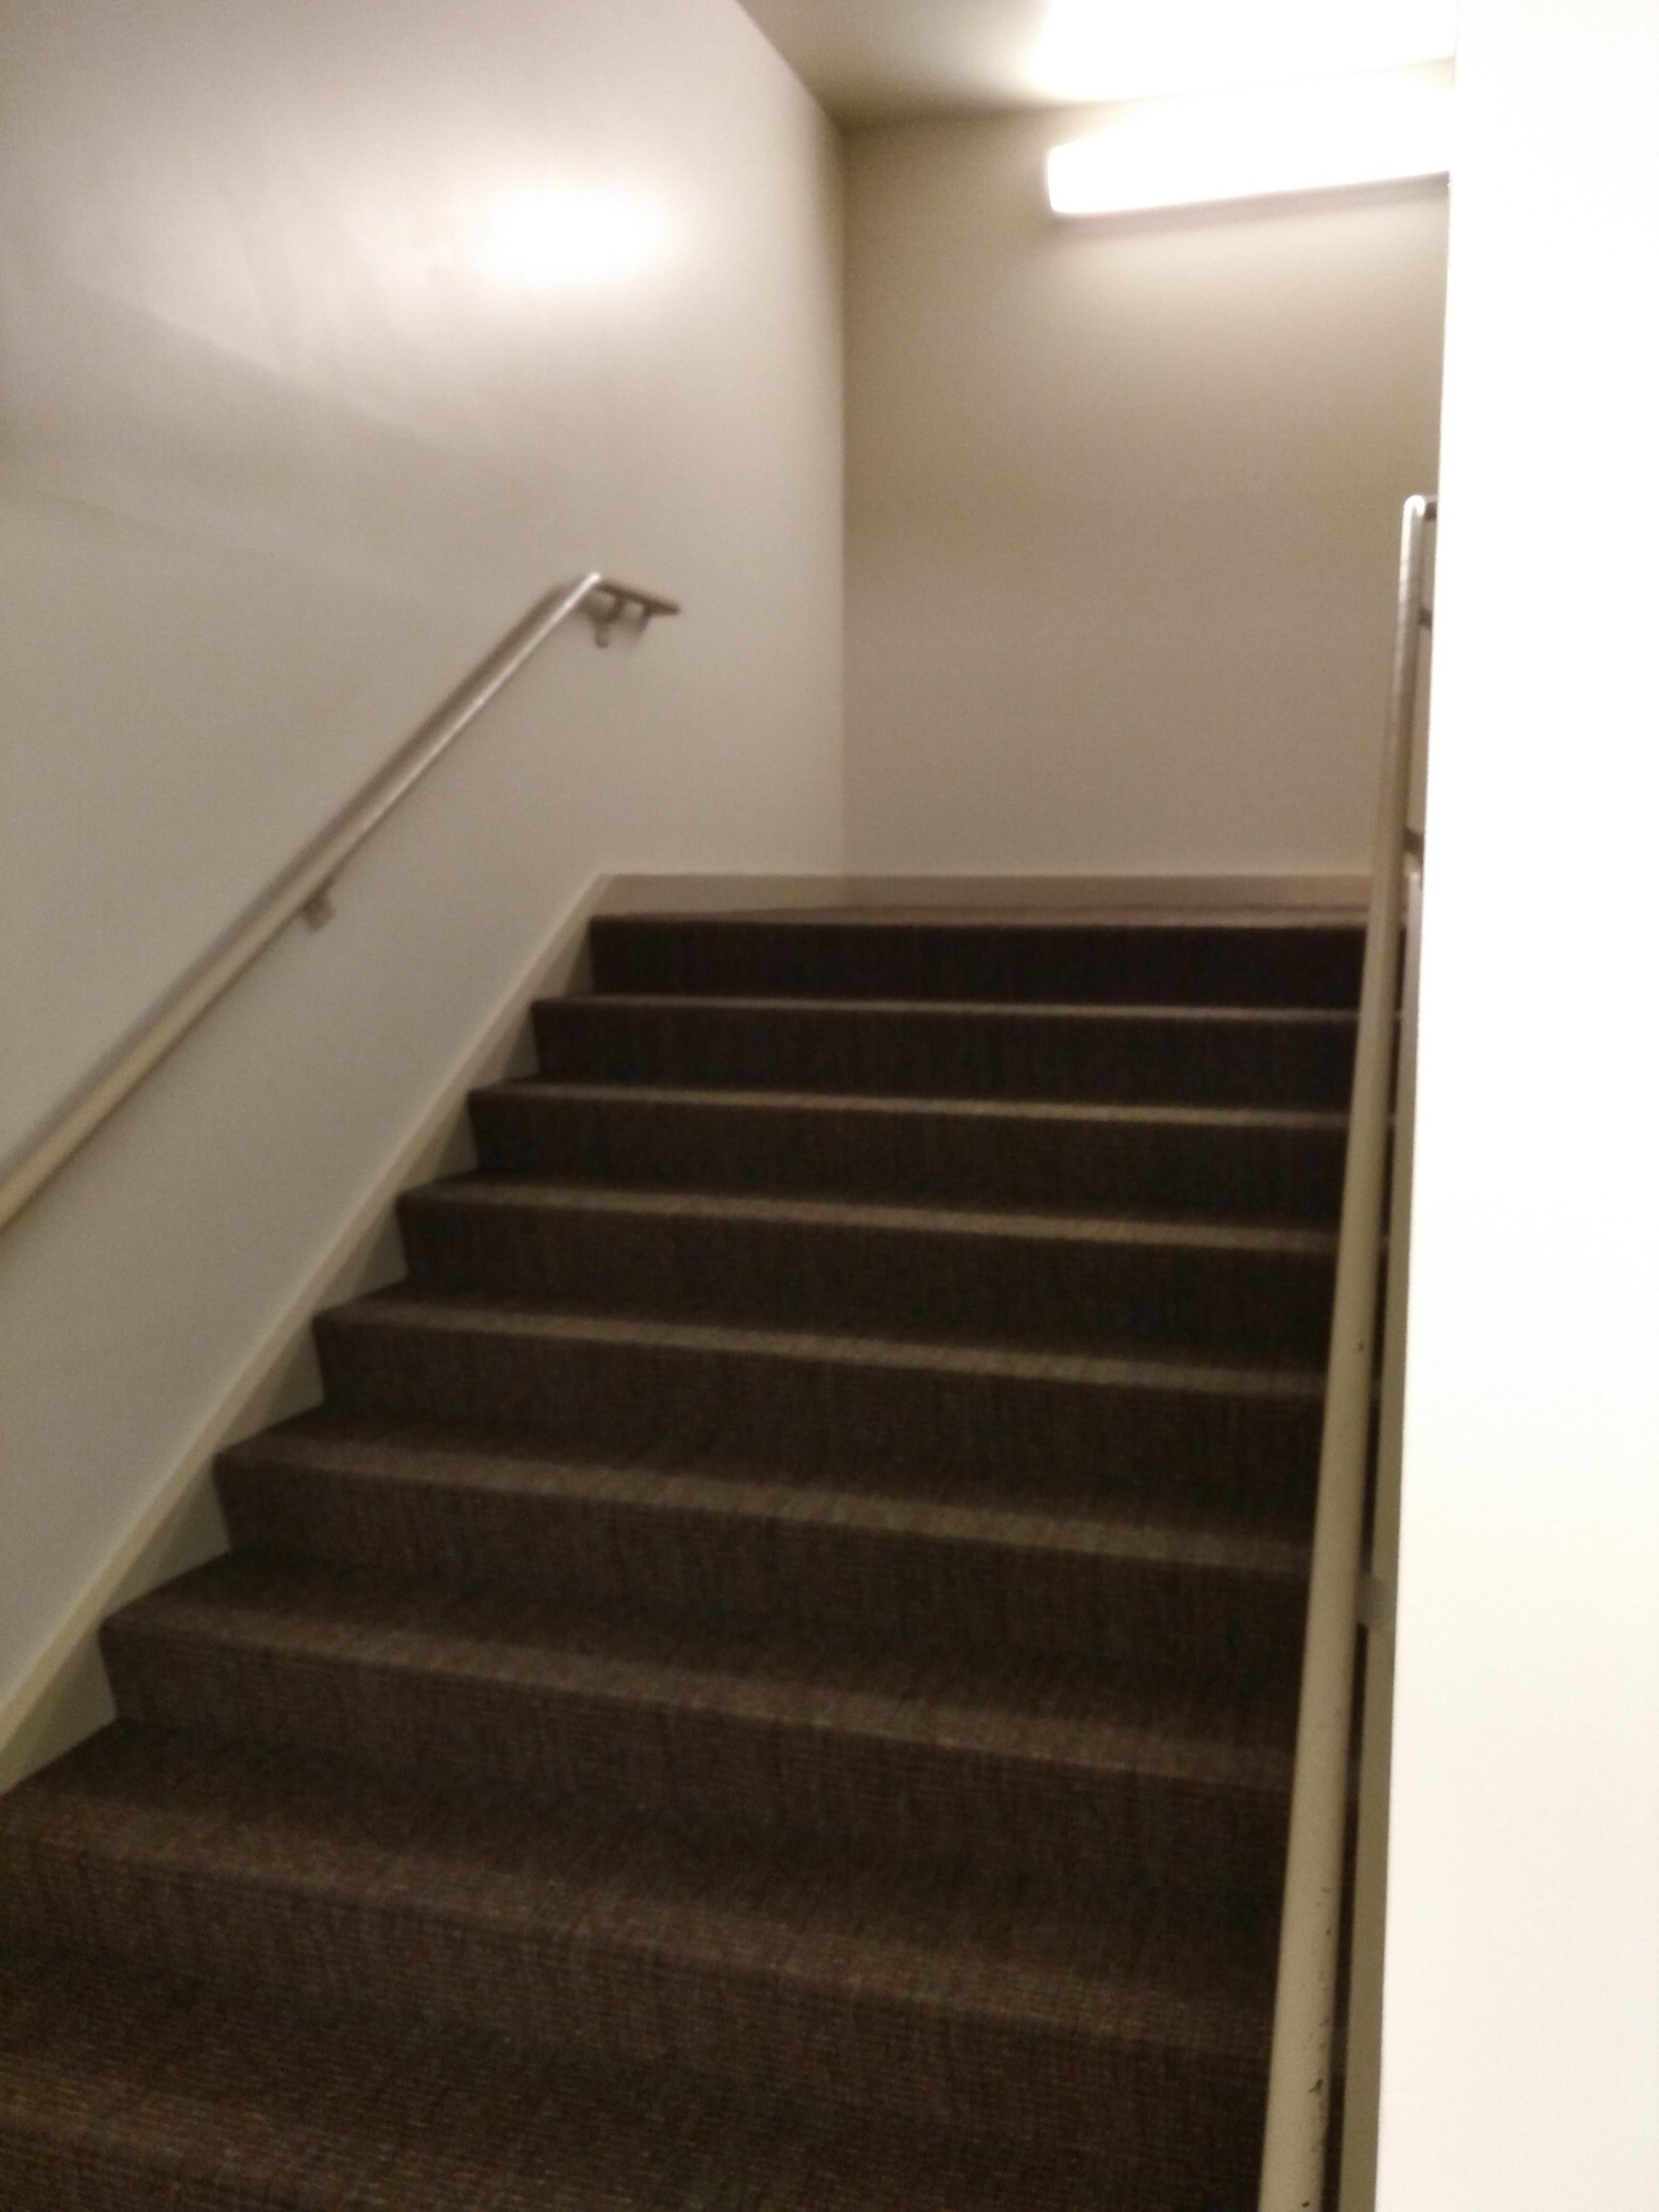stairs_up: (0, 880, 1380, 2134)
